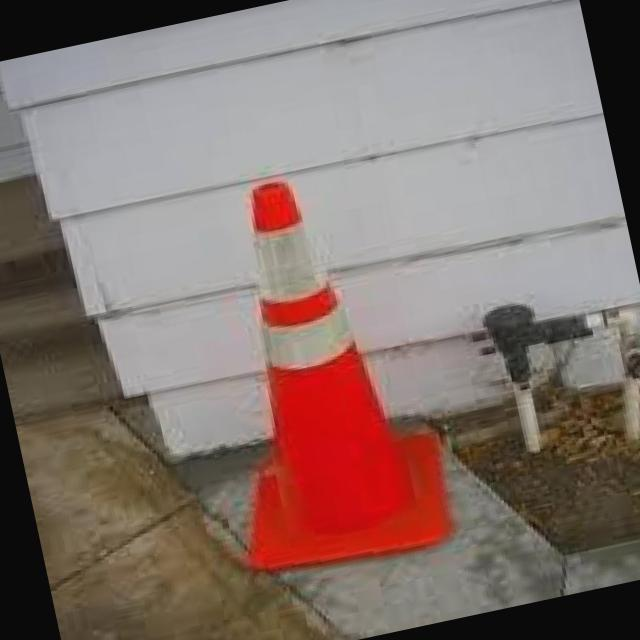Cone: (173, 155, 460, 580)
